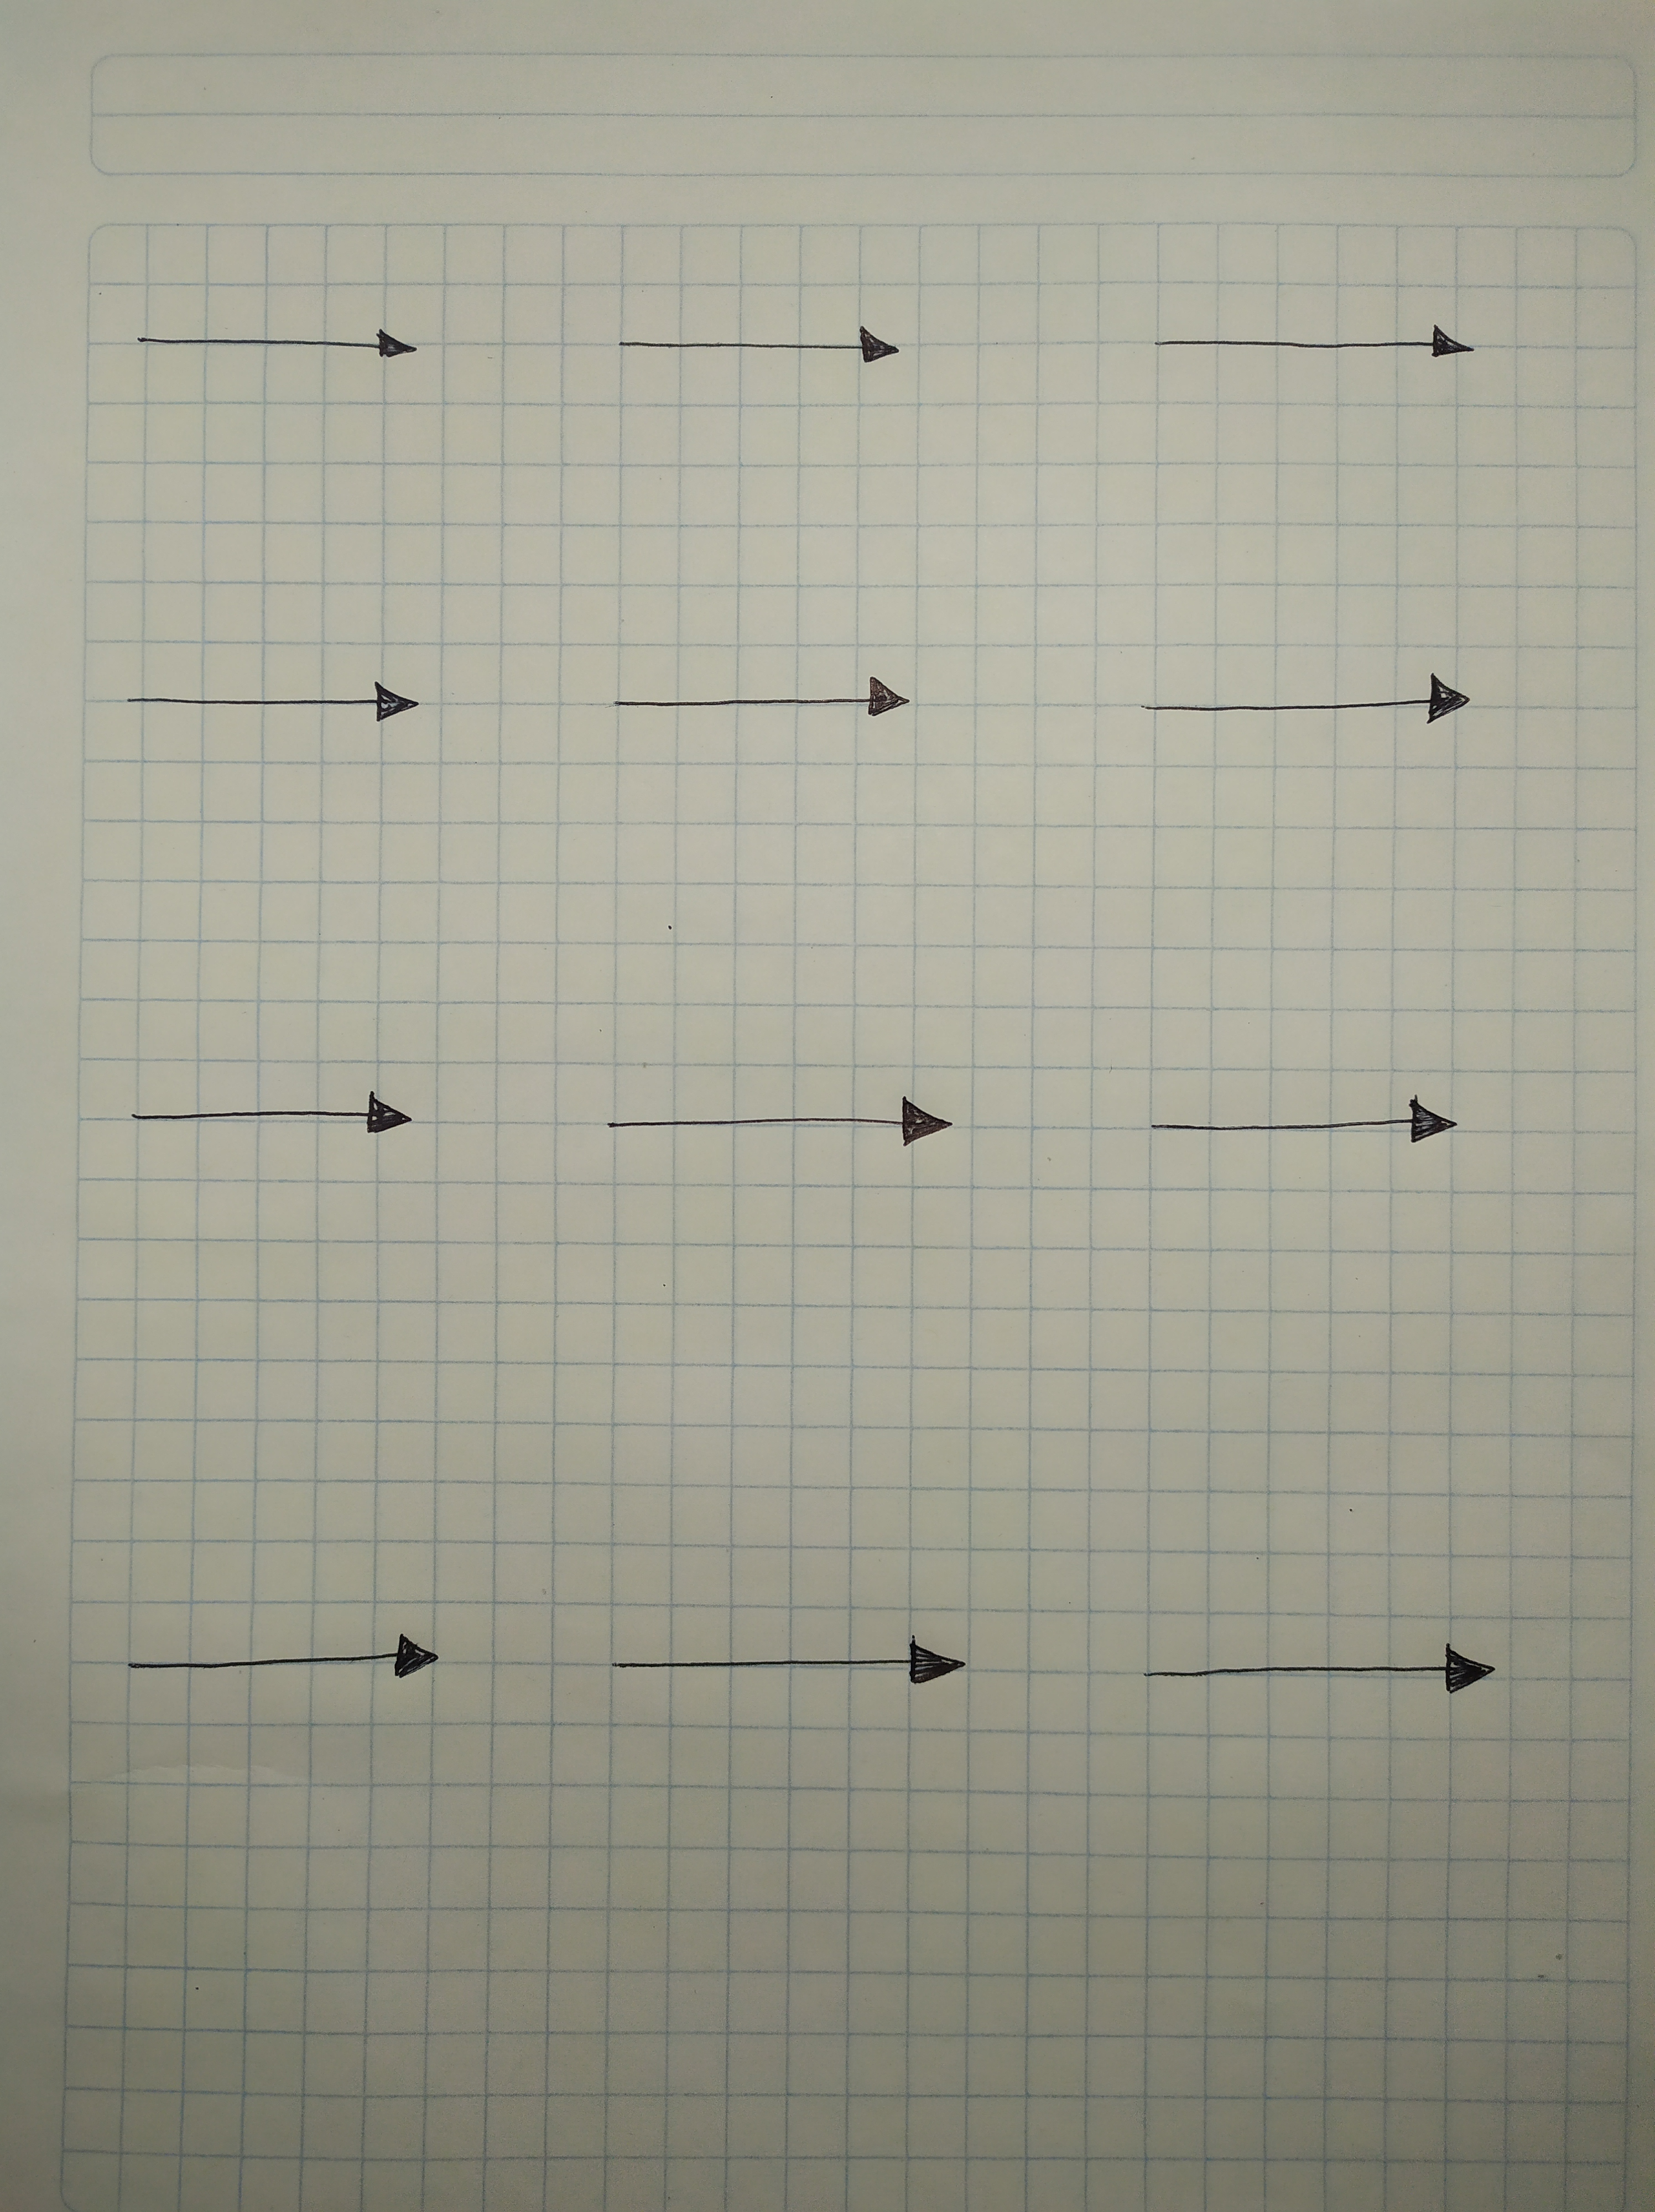arrow_line_right: (572, 1607, 1029, 1734), (1120, 1614, 1545, 1720), (570, 1074, 989, 1178), (96, 1595, 473, 1710), (596, 292, 953, 405), (104, 281, 438, 396), (1107, 1070, 1490, 1169), (116, 1053, 442, 1168), (1107, 653, 1495, 747), (1121, 290, 1490, 387), (89, 653, 436, 756), (586, 653, 934, 751)
